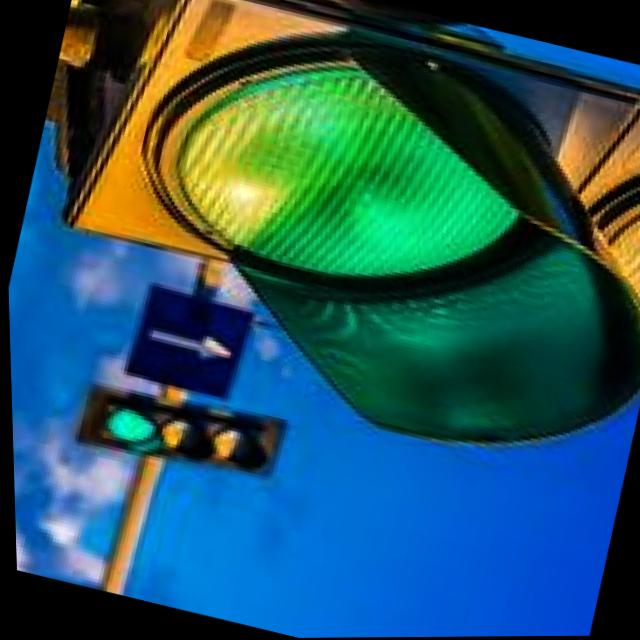green_light: (129, 0, 605, 457)
